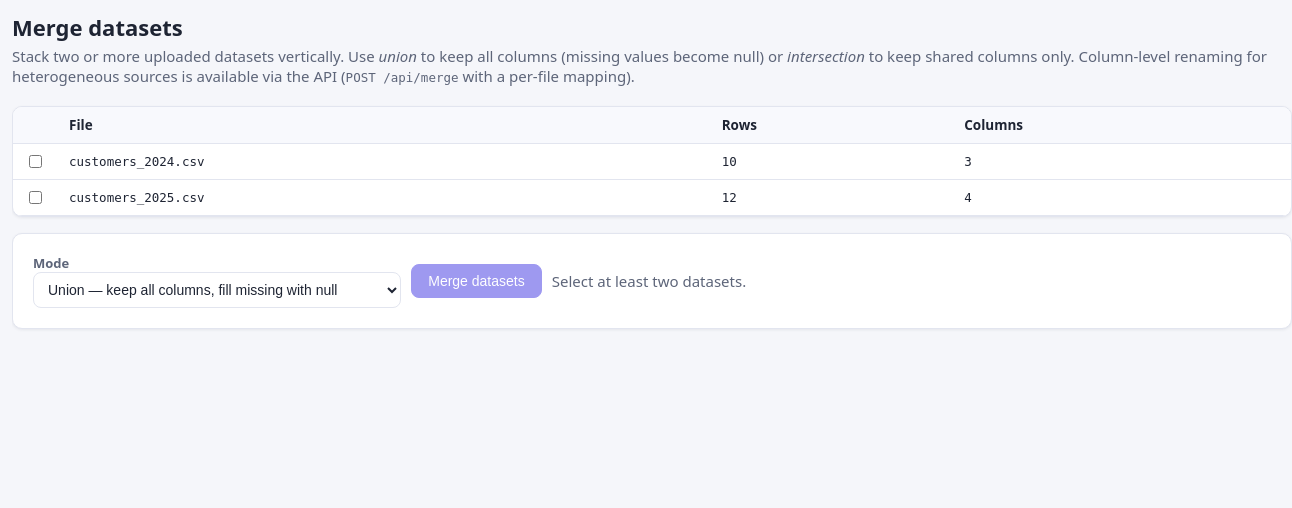
Test: MergePage › selects datasets and merges them in union mode
The image size is (1292, 508).
Click the checkbox named "customers_2024" at (36,162), box [29,155,42,168]
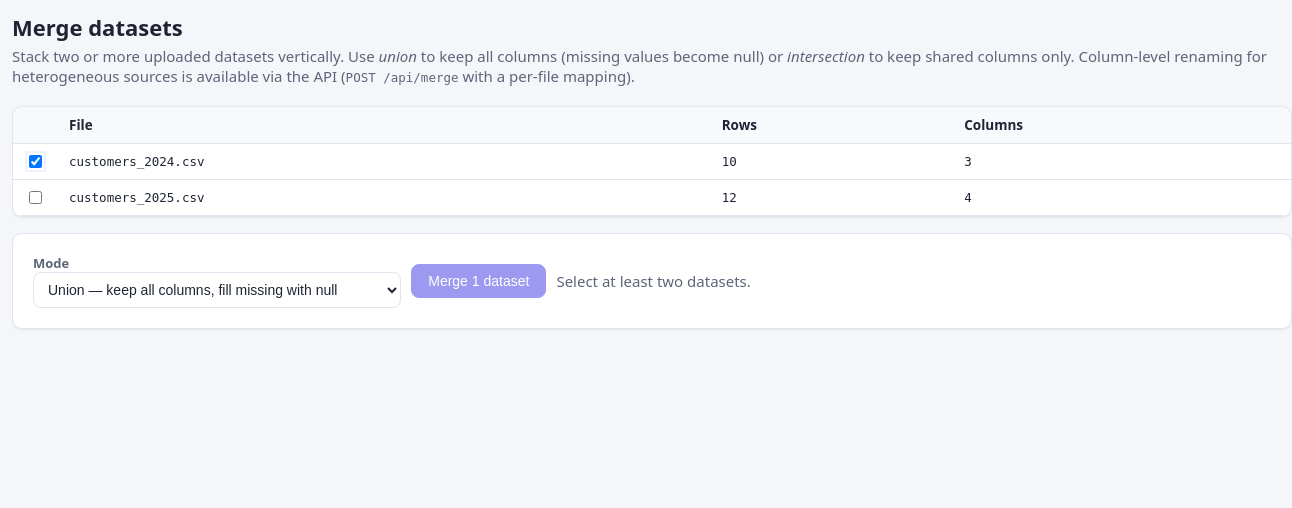
Click the checkbox named "customers_2025" at (36,198), box [29,191,42,204]
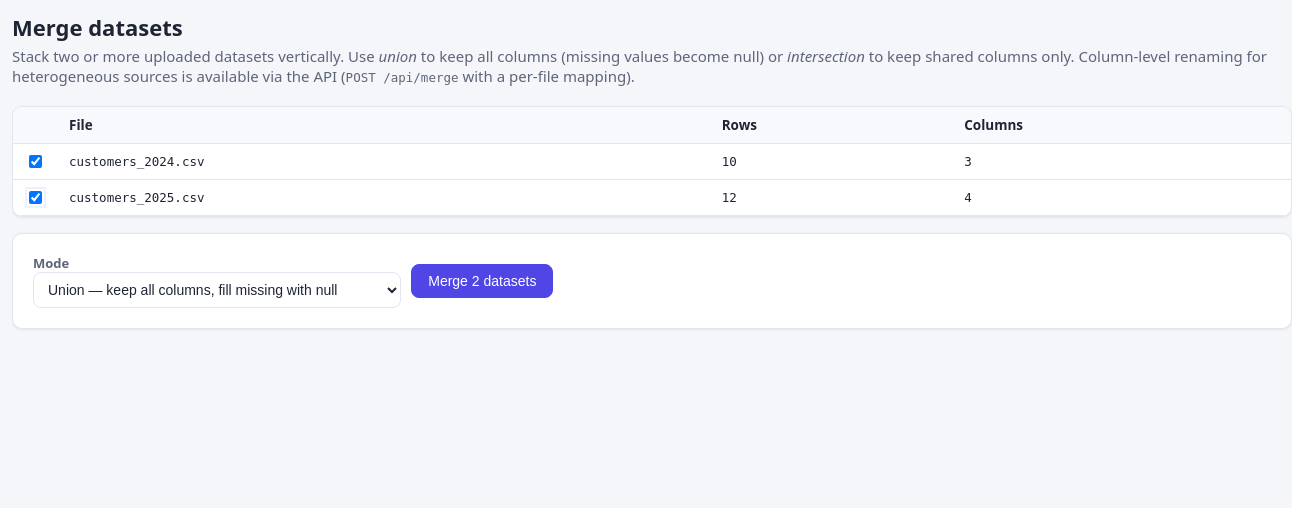
Click the button "Merge 2 datasets" at (482,281), box [411,264,553,298]
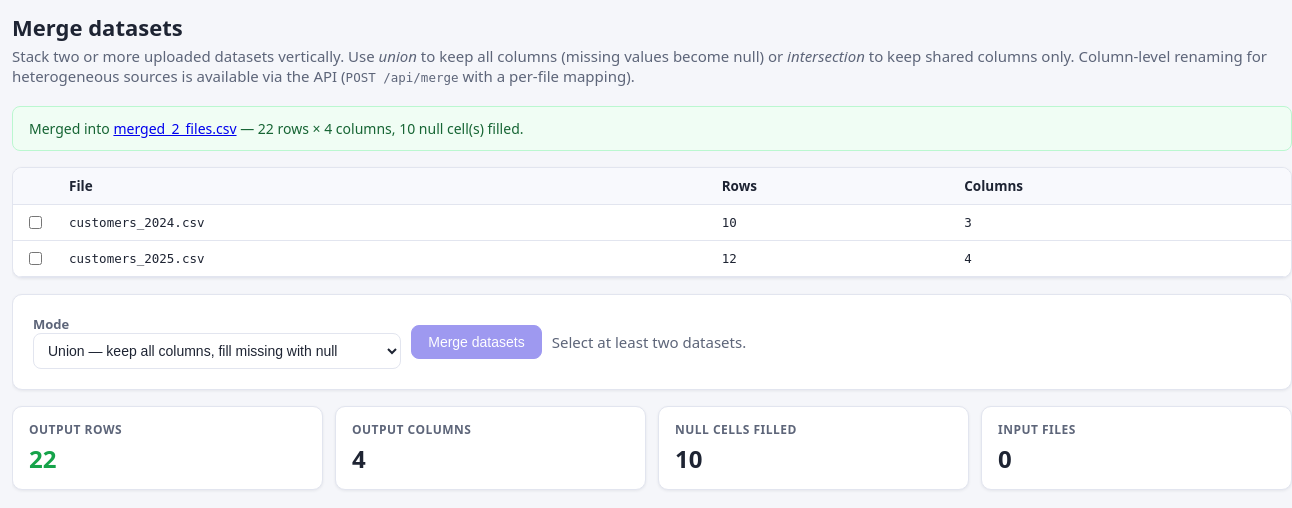
Check: the text "union" is shown, box [379,46,417,66]
Check: the text "Merged into merged_2_files.csv — 22 rows × 4 columns, 10 null cell(s) filled." is shown, box [12,106,1291,151]
